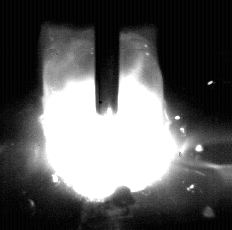arame: (95, 0, 120, 116)
poca: (43, 0, 177, 230)
